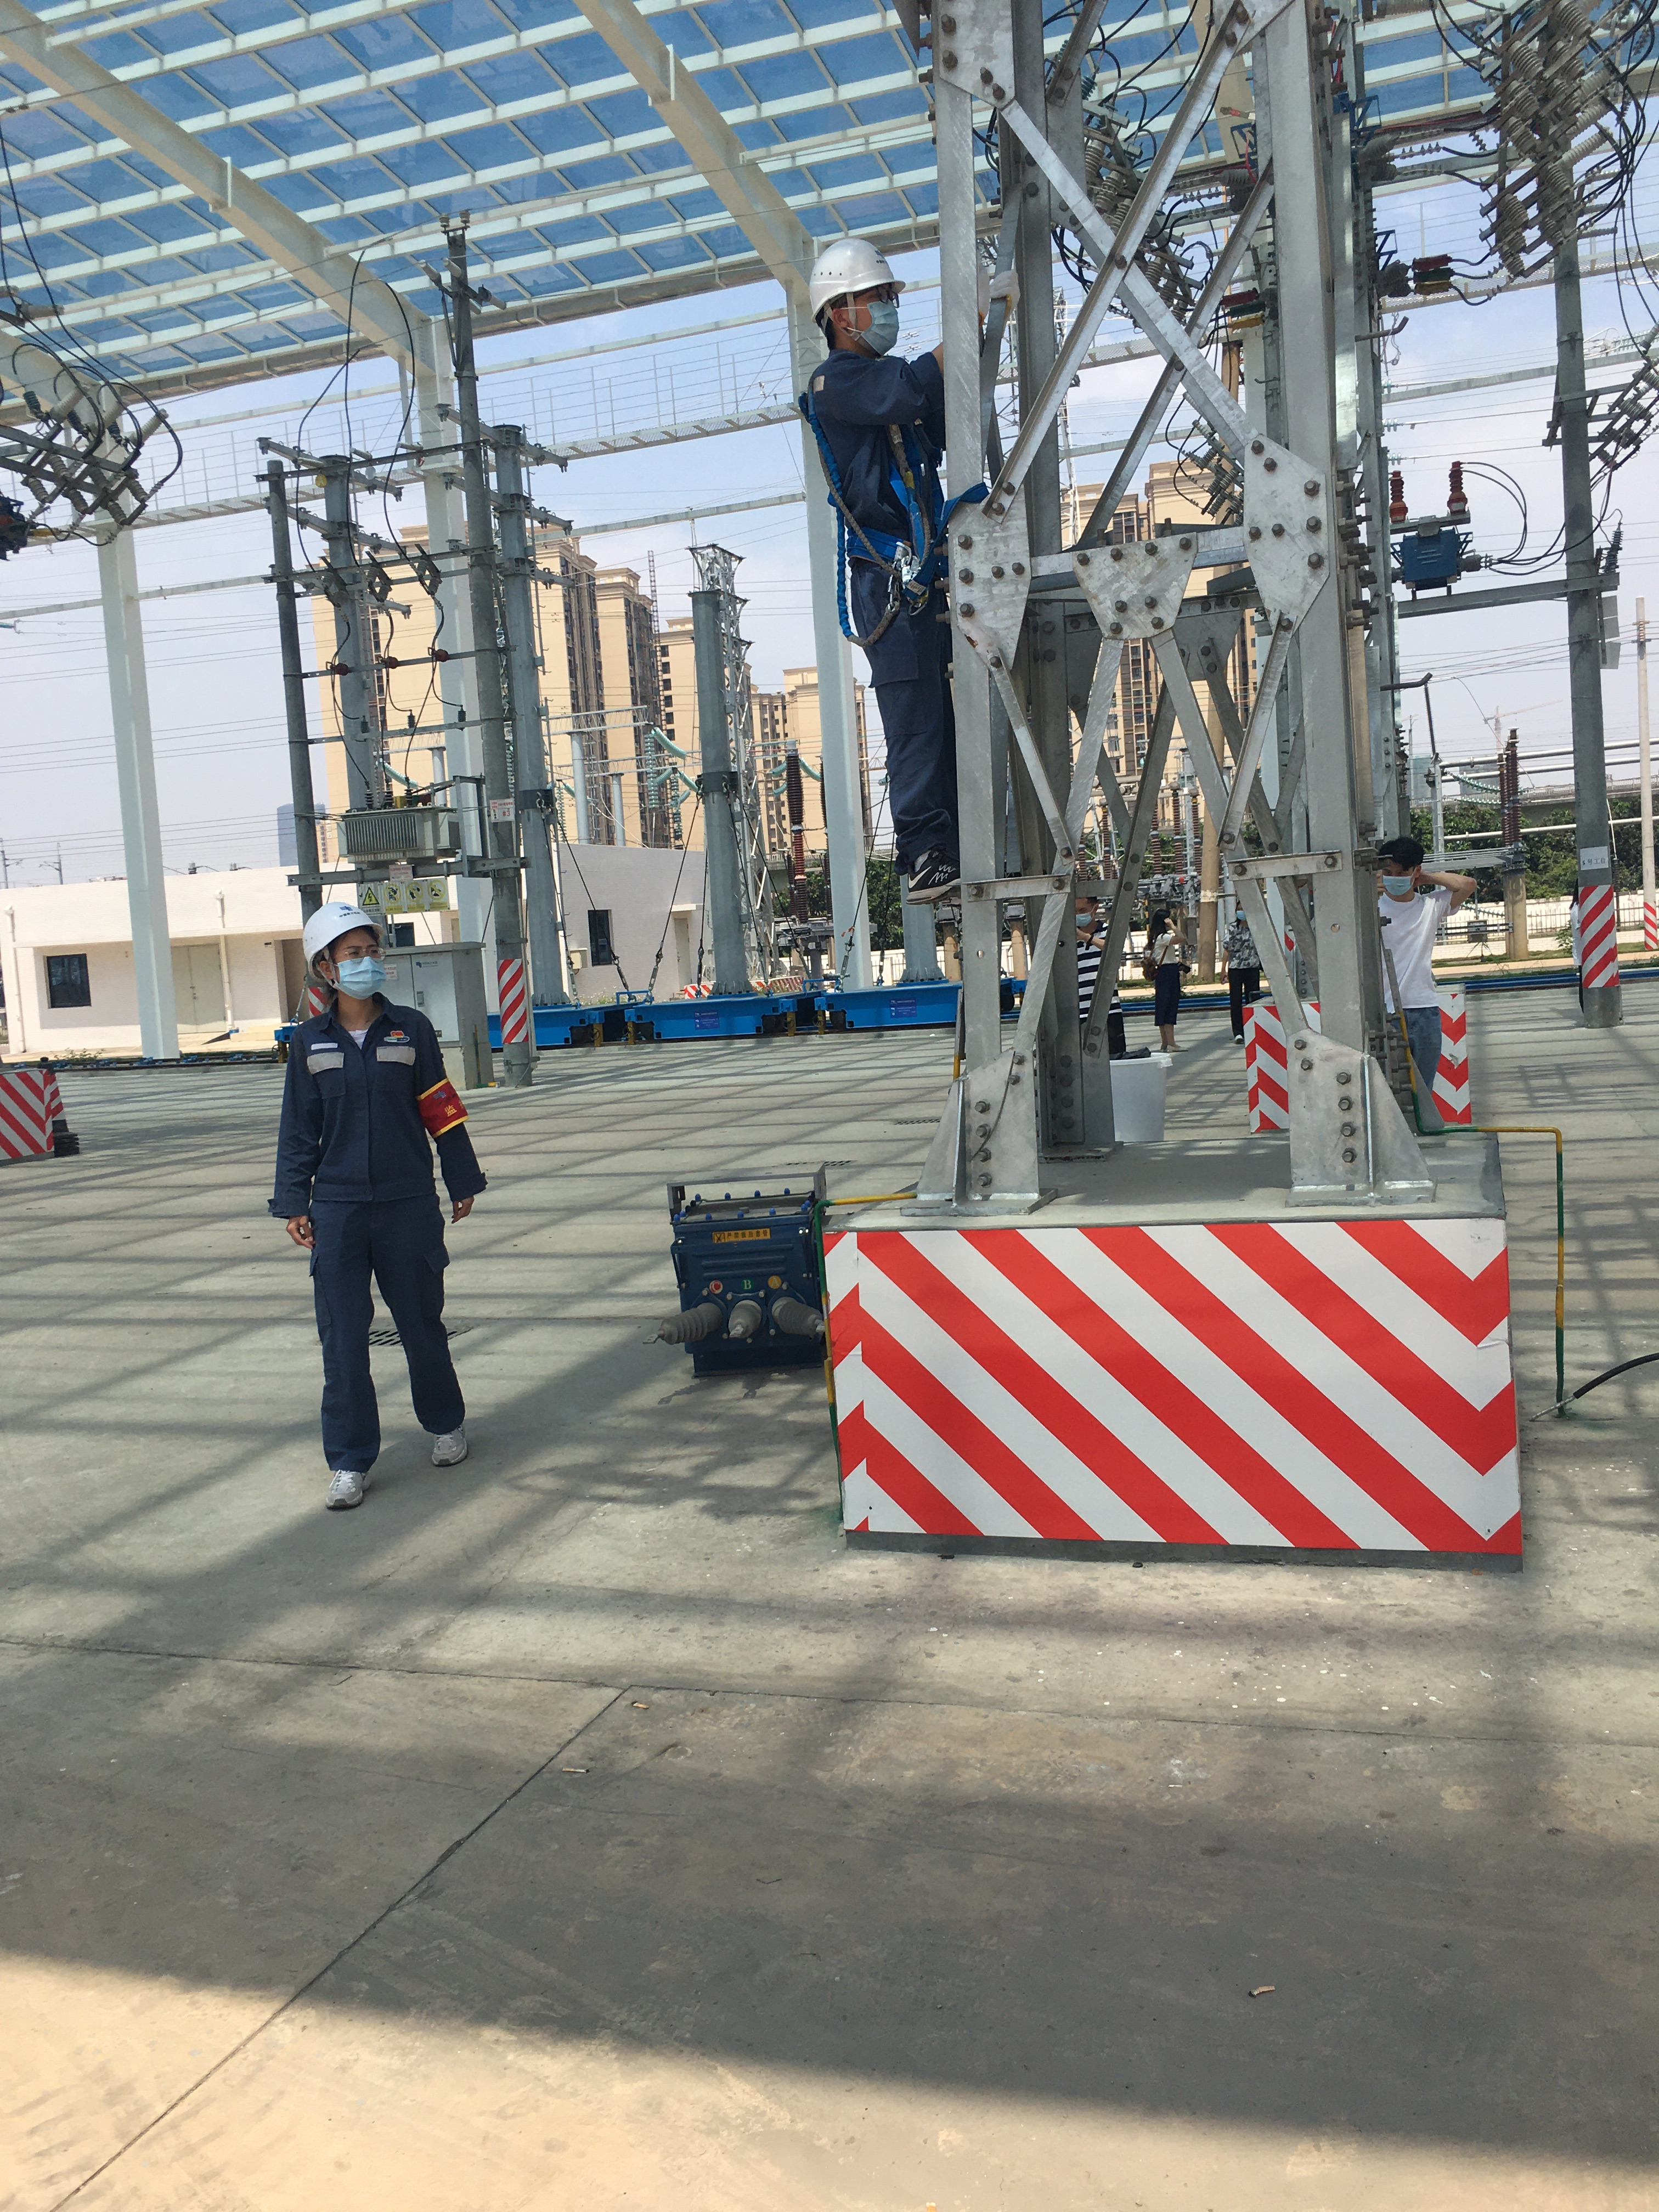badge: (414, 1076, 473, 1137)
downcloth: (1151, 968, 1185, 1040)
downsuit: (302, 1218, 470, 1459), (845, 573, 961, 861)
halt: (808, 243, 906, 360), (303, 901, 389, 1002)
hand: (285, 1215, 316, 1252), (450, 1197, 475, 1225)
inear: (825, 293, 868, 349), (313, 949, 341, 994)
person: (263, 896, 491, 1489), (800, 241, 985, 910), (1373, 839, 1470, 1127), (1070, 900, 1115, 1062), (1146, 900, 1190, 1048)
safebelt: (798, 348, 991, 649)
unhalt: (1378, 840, 1426, 891)
upcloth: (1381, 890, 1449, 1009)
upsuit: (267, 1000, 478, 1209), (808, 351, 948, 567)
wglove: (988, 268, 1021, 319)
